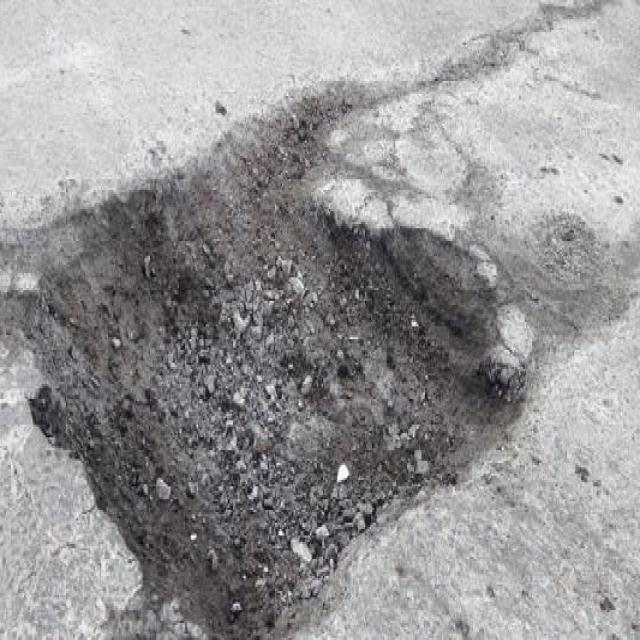pothole: (22, 85, 530, 638)
